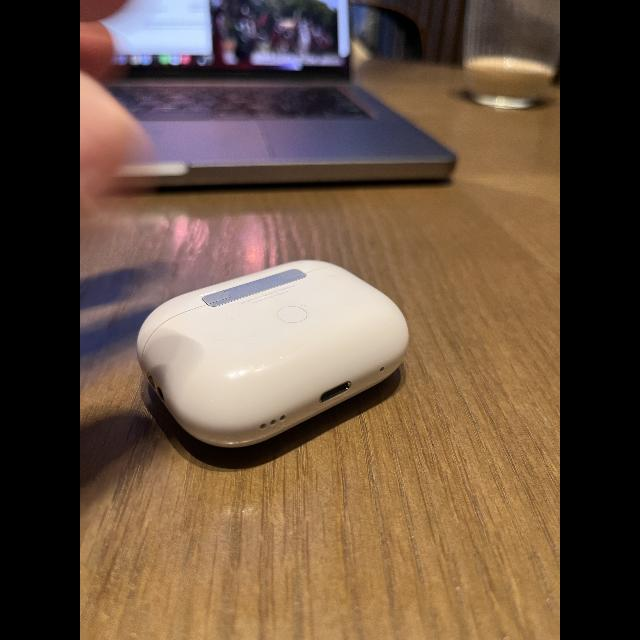AirPods Pro: (131, 255, 413, 472)
